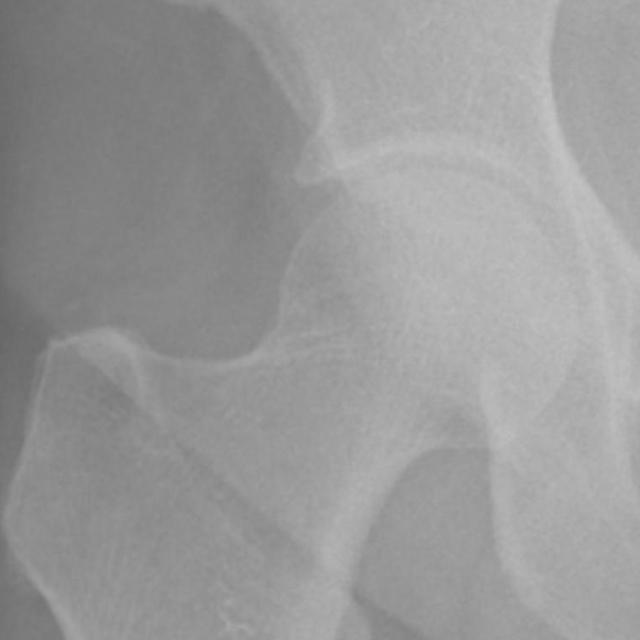Fitted_femural_head: (286, 172, 432, 286)
